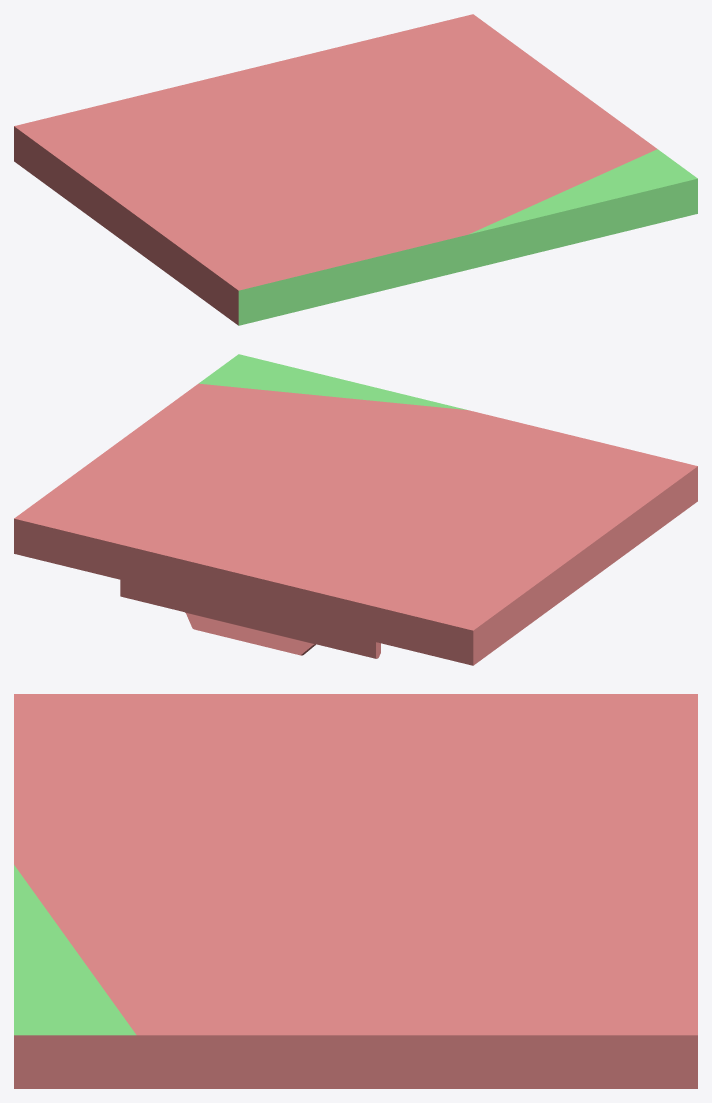
The model's file is S_Envi_FZFBase_Policeroom_03a.gltf.
The picture shows the model from 3 angles, top to bottom: view 1: azimuth 30°, elevation 25°; view 2: azimuth 150°, elevation 25°; view 3: azimuth 270°, elevation 25°; orthographic projection. The views are drawn at different scales.
Visible parts, largest first — view 1: S_Envi_FZFBase_Policeroom_03a; view 2: S_Envi_FZFBase_Policeroom_03a; view 3: S_Envi_FZFBase_Policeroom_03a.
Part boxes in pixels (x1,y1,x2,y2): S_Envi_FZFBase_Policeroom_03a: [14, 14, 697, 325]; S_Envi_FZFBase_Policeroom_03a: [14, 354, 697, 665]; S_Envi_FZFBase_Policeroom_03a: [14, 694, 697, 1088].
Bounding box in the file's own units: 17.77 × 2.64 × 15.06.
